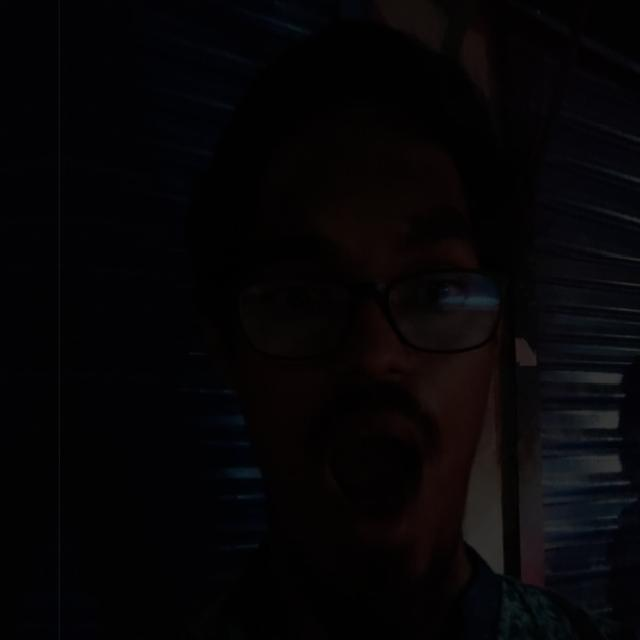Surprised: (235, 173, 549, 548)
